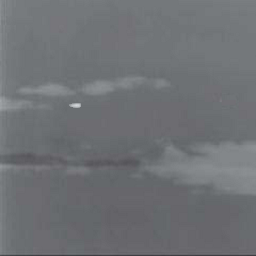Target: (67, 102, 82, 109)
